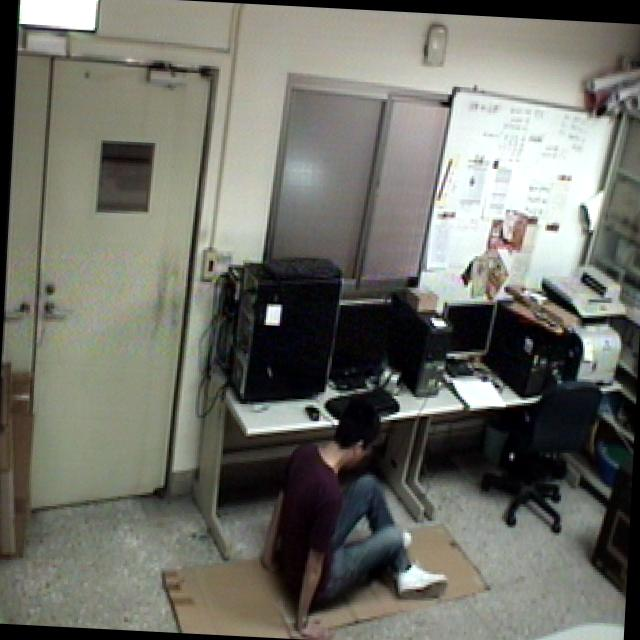sit: (253, 383, 470, 640)
